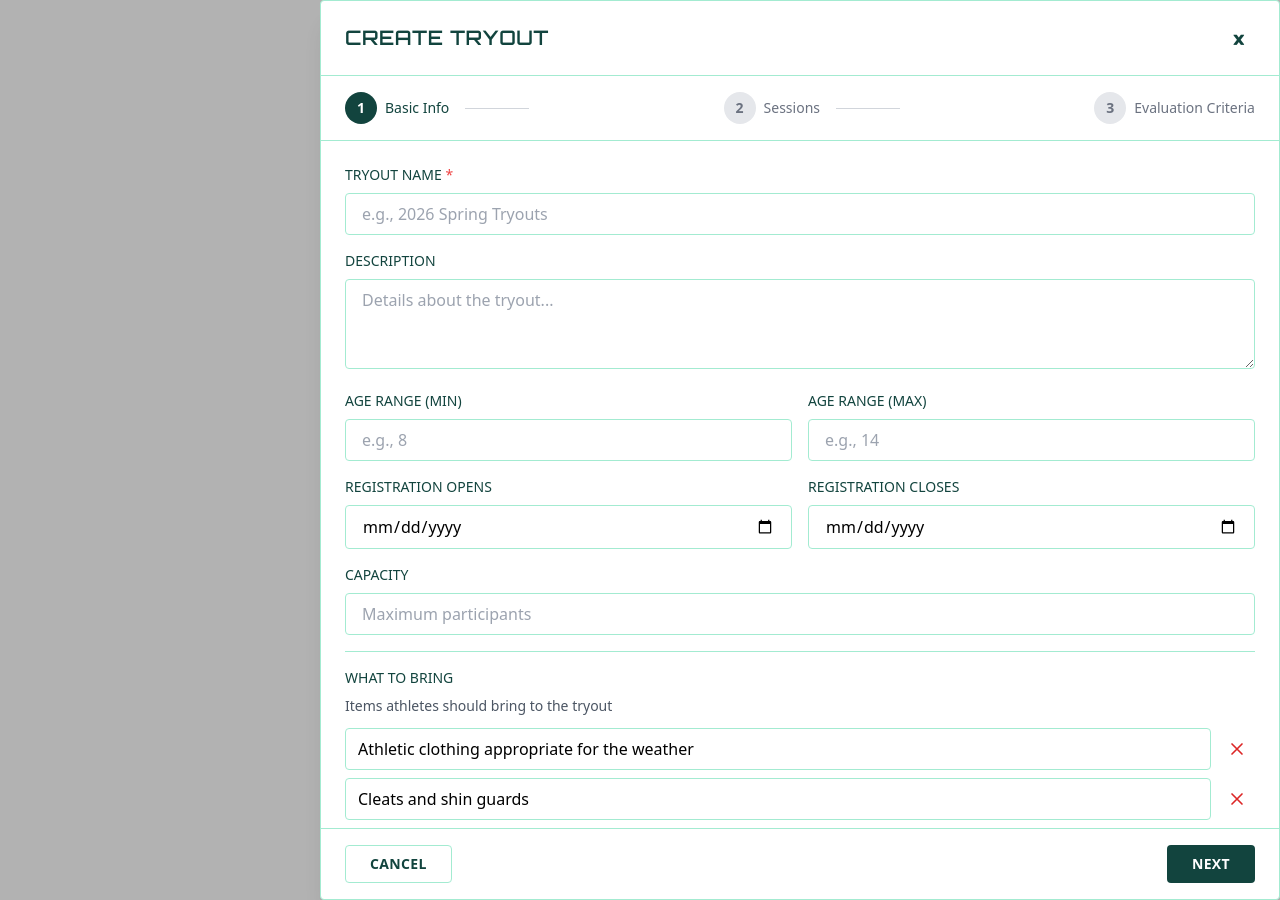
Test case: TryoutCreationWizard › proceeds to step 2 when name provided
The width and height of the screenshot is (1280, 900).
// Fill in name
Type "Test Tryout" into the field with placeholder "e.g., 2026 Spring Tryouts" at (800, 214), box [345,193,1255,235]
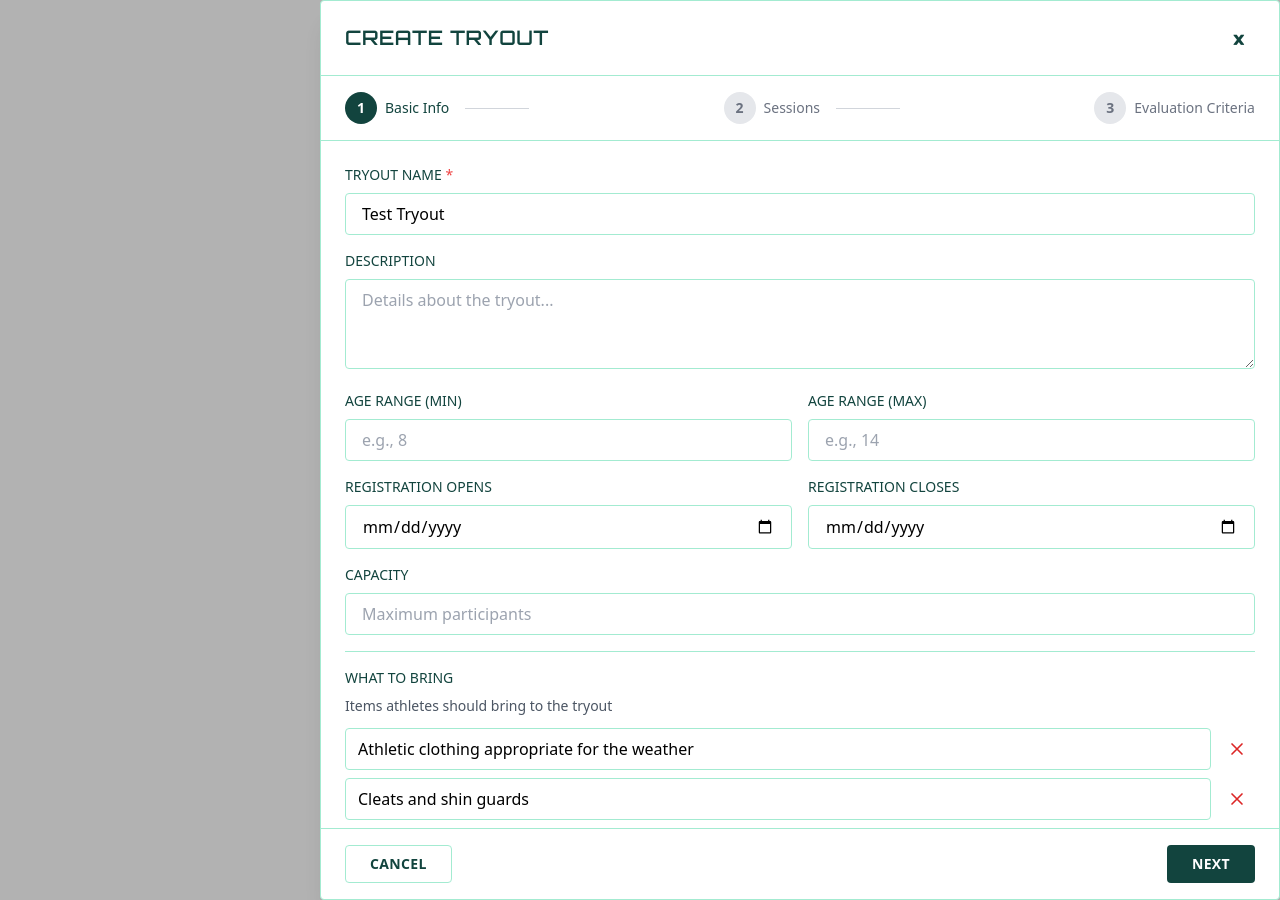
Click the button "Next" at (1211, 864), box [1167,845,1255,883]
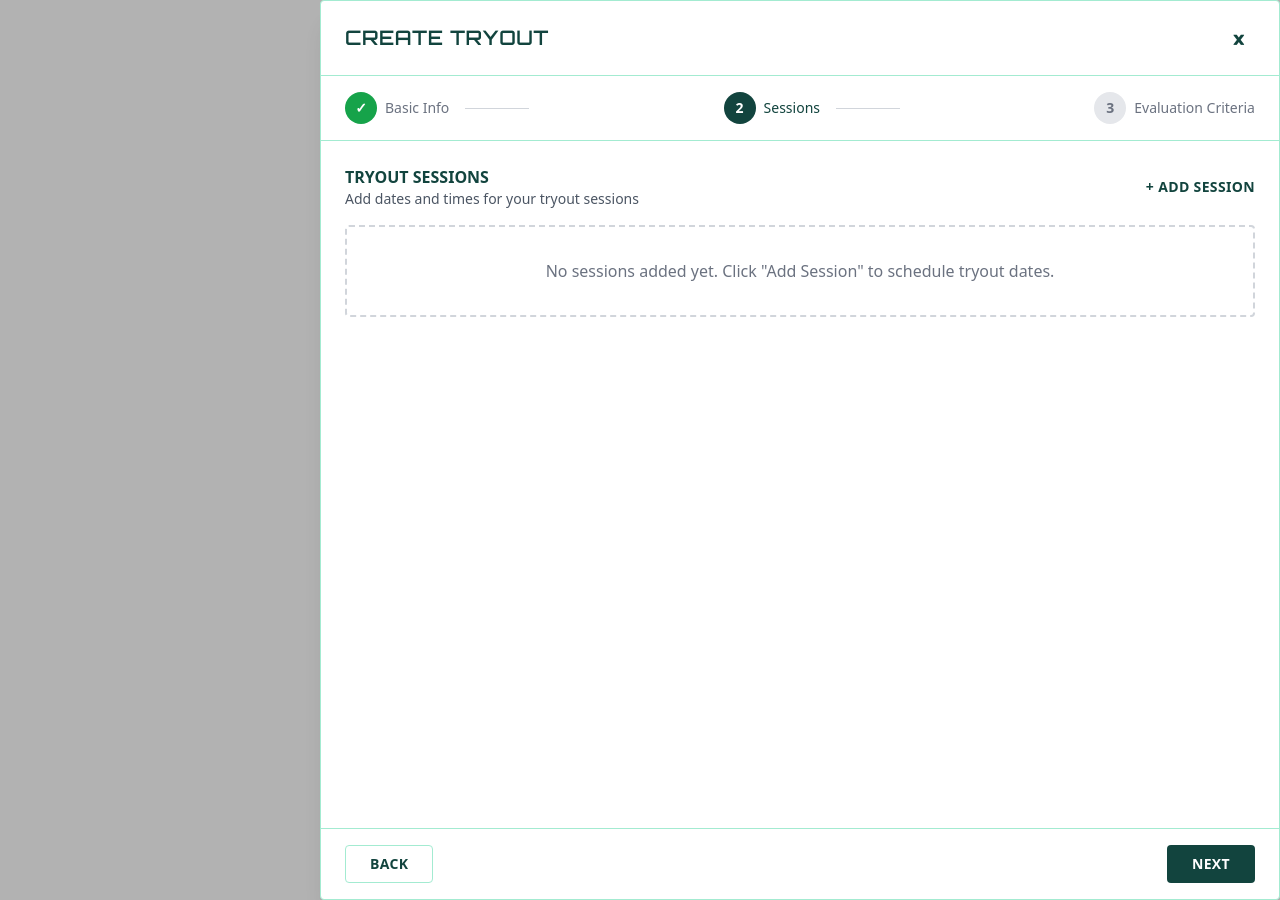
Expected: the heading "Tryout Sessions" is shown, [345,166,489,188]
Expected: the button "+ Add Session" is shown, [1146,177,1255,197]
